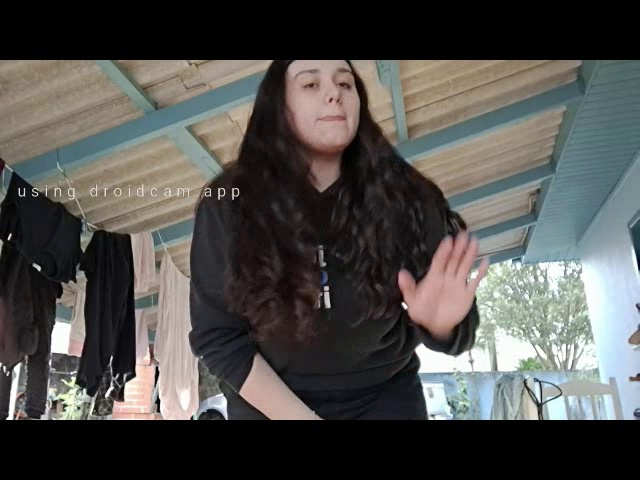MULHER: (254, 55, 399, 180)
